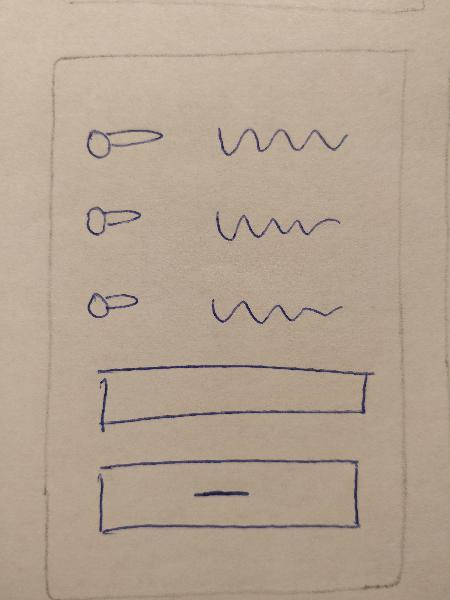button: (86, 451, 369, 540)
switch: (78, 115, 170, 169), (79, 199, 154, 245), (80, 280, 152, 326)
text: (201, 107, 357, 168), (201, 280, 353, 342), (204, 199, 347, 247)
text_input: (87, 354, 376, 434)
